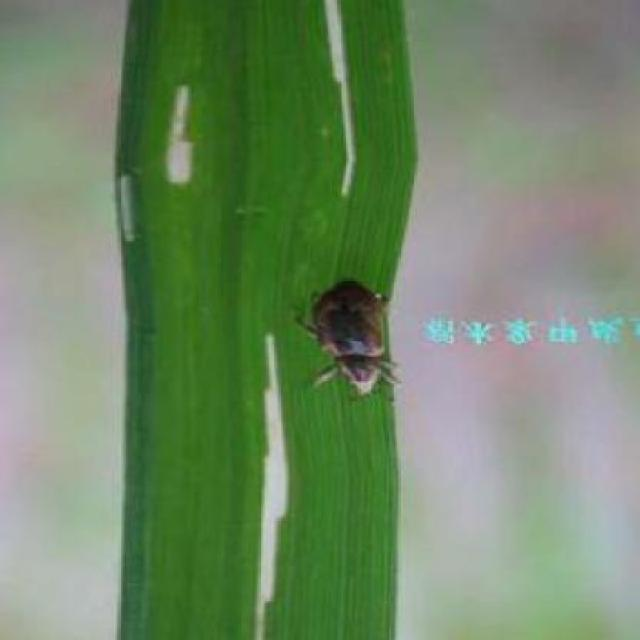rice-bug: (300, 276, 414, 401)
